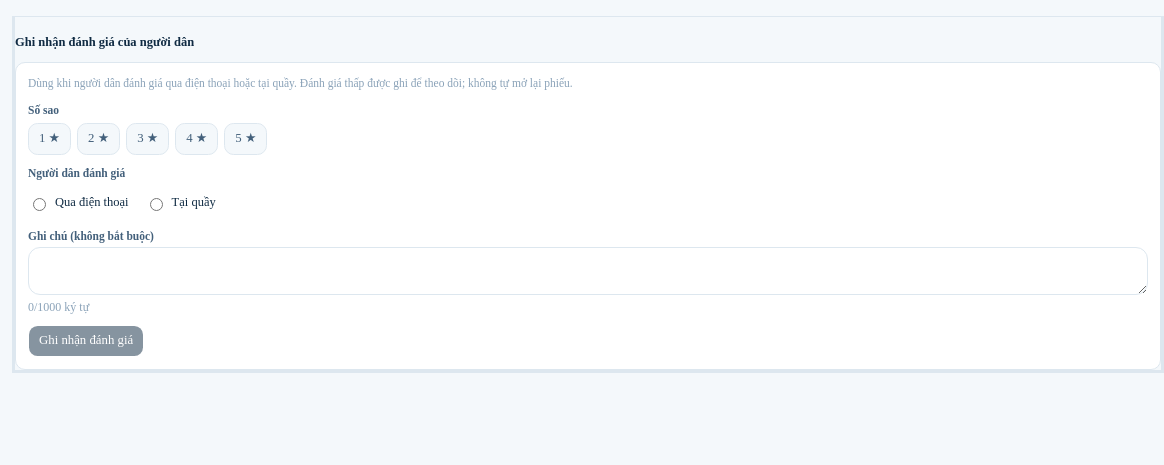
StaffRecordedRatingSection › 409 staff_rating_exists: the server's sentence, verbatim, and nothing handed up
Click the button "2 ★" at (99, 139), box [77,123,120,155]
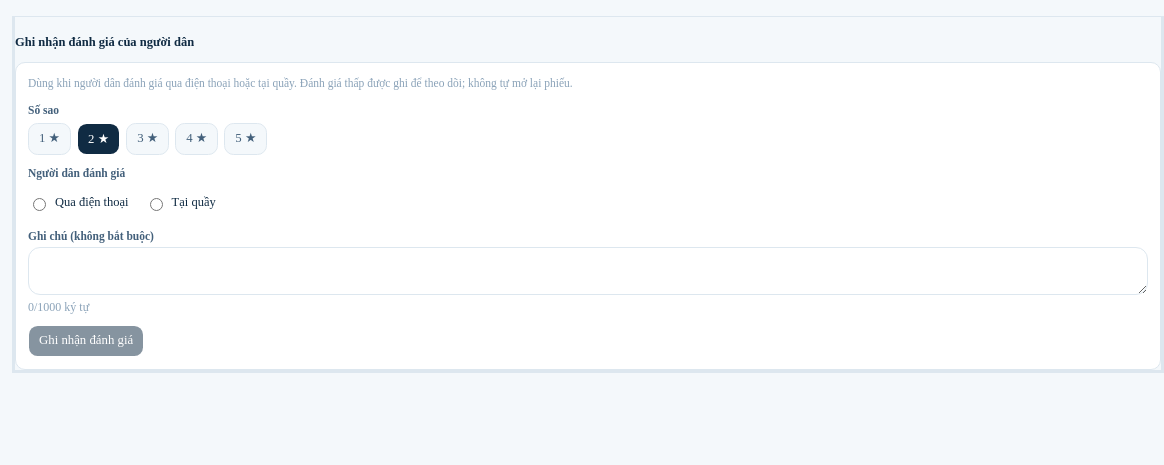
Click the radio button labelled "Tại quầy" at (156, 204), box [150,198,163,210]
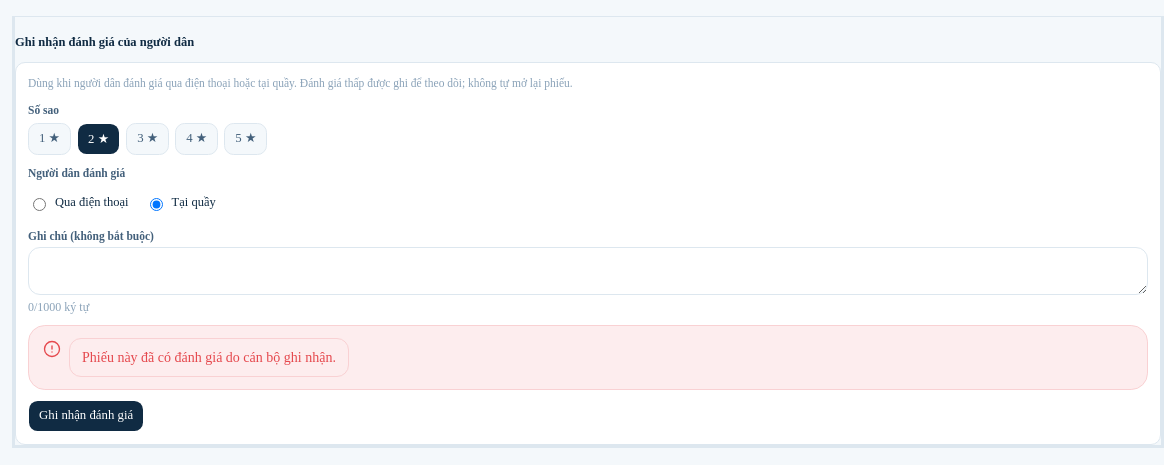
Result: the message "Phiếu này đã có đánh giá do cán bộ ghi nhận." is shown at [69,338,349,377]
